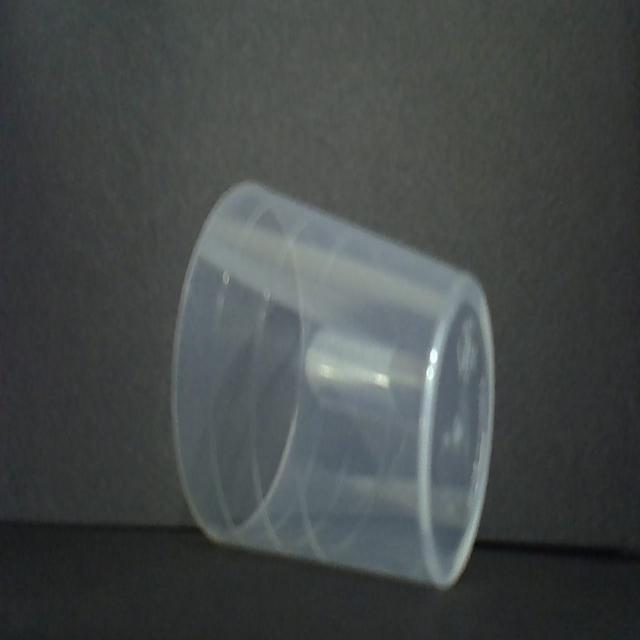cup: (168, 175, 497, 593)
